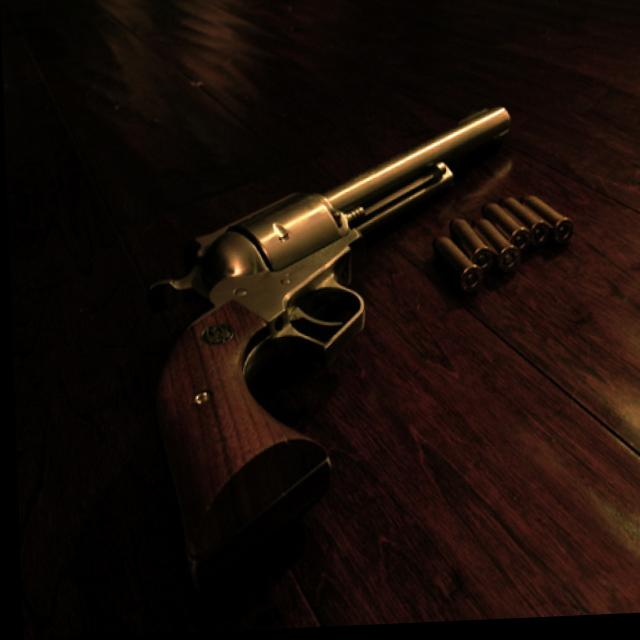handgun: (150, 102, 528, 589)
